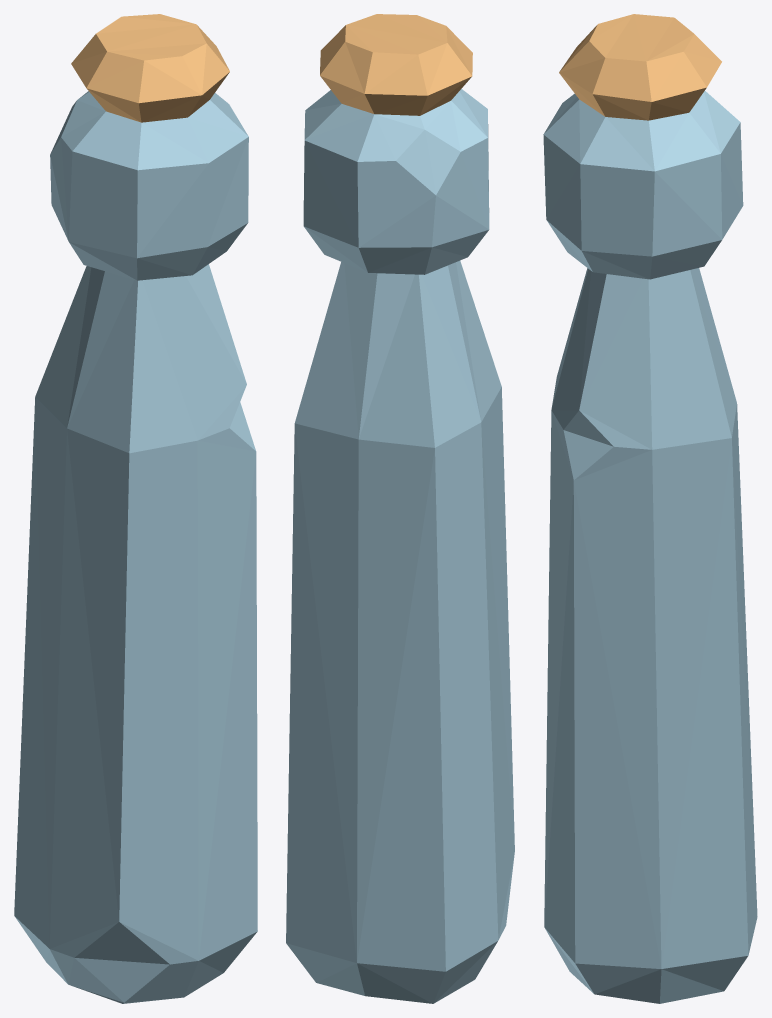
Rendered from Poison_007.fbx.
The picture shows the model from 3 angles, left to right: view 1: azimuth 30°, elevation 25°; view 2: azimuth 150°, elevation 25°; view 3: azimuth 270°, elevation 25°; orthographic projection.
Visible parts, largest first — view 1: Poison_007; view 2: Poison_007; view 3: Poison_007.
Boxes of the visible parts, box(x1,y1,x2,y2) form: Poison_007: box(14, 14, 257, 1003); Poison_007: box(286, 14, 514, 1003); Poison_007: box(543, 14, 757, 1003).
Bounding box in the file's own units: 0.0641 × 0.3069 × 0.0635.
